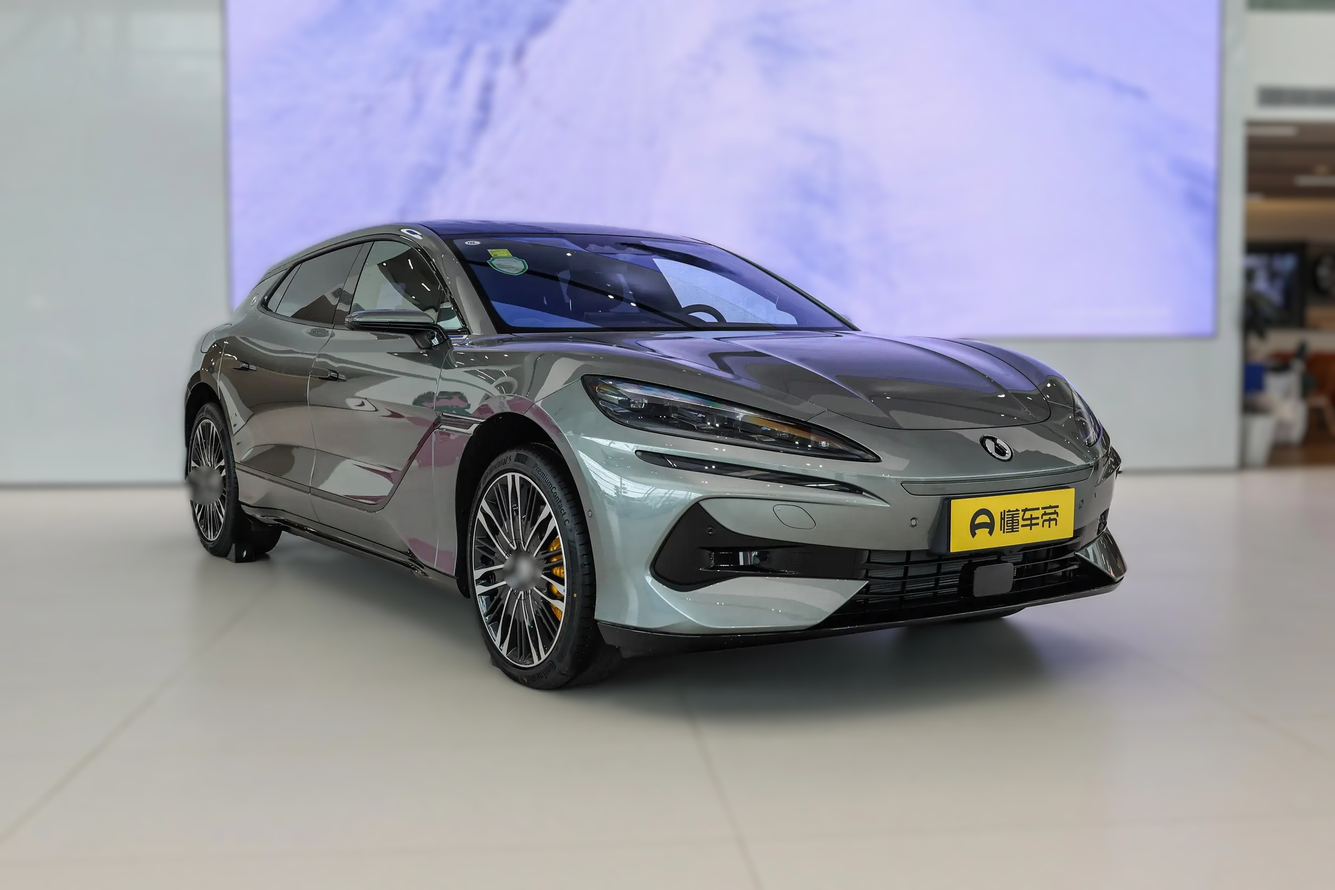DENZA: (985, 439, 1010, 458)
